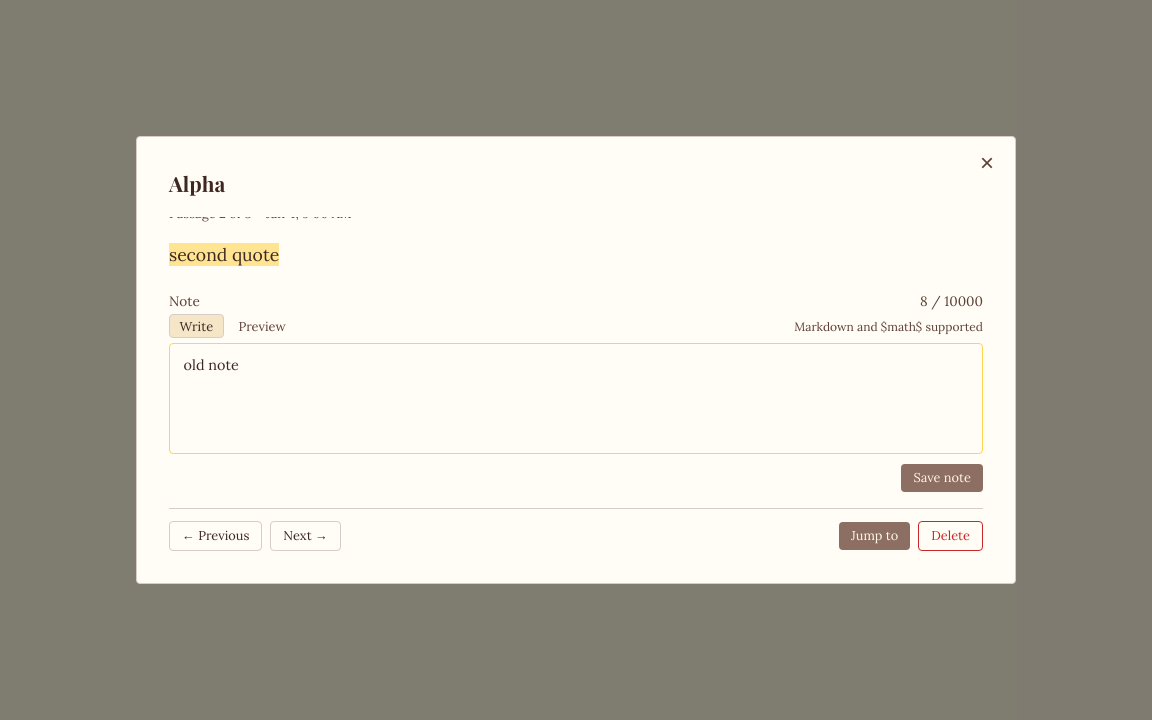
Scenario: PassageFocusDialog › keeps Save note disabled until the note changes, and saves with Ctrl+Enter
Check: the button "Save note" is disabled, box [901, 464, 983, 492]
Replace the text in the text box labelled "Note" with "  new note  ": (576, 398) [169, 343, 983, 454]
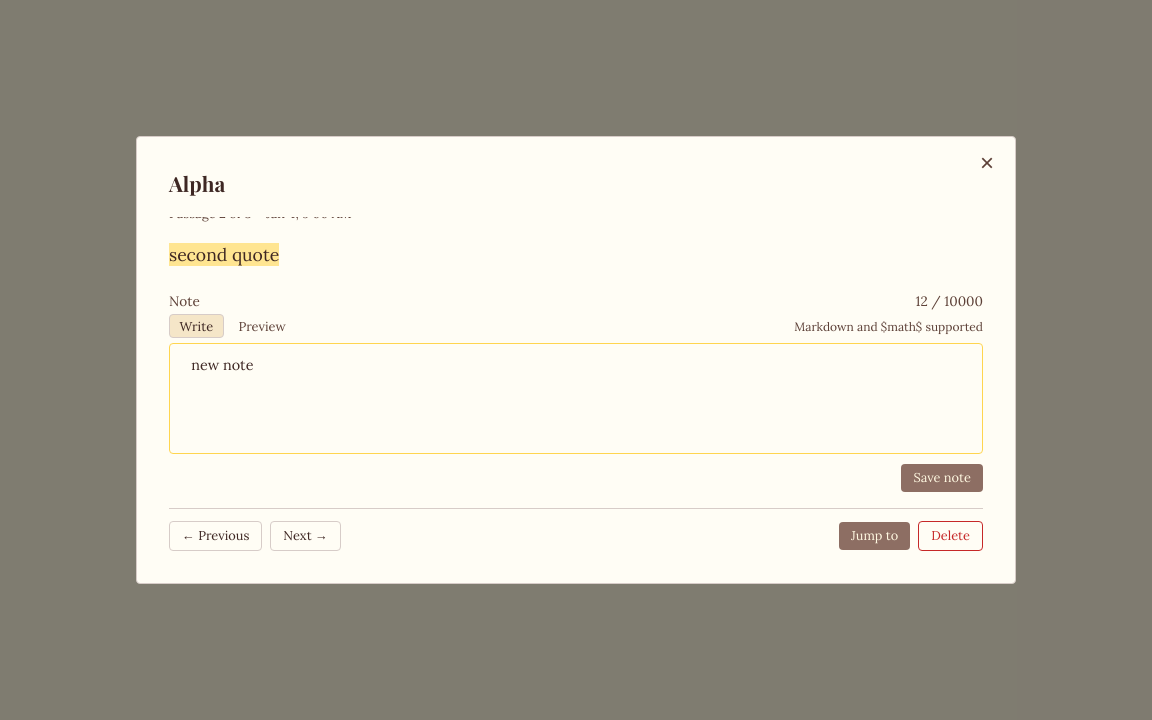
Check: the button "Save note" is enabled, box [901, 464, 983, 492]
Press Enter in the text box labelled "Note", box [169, 343, 983, 454]
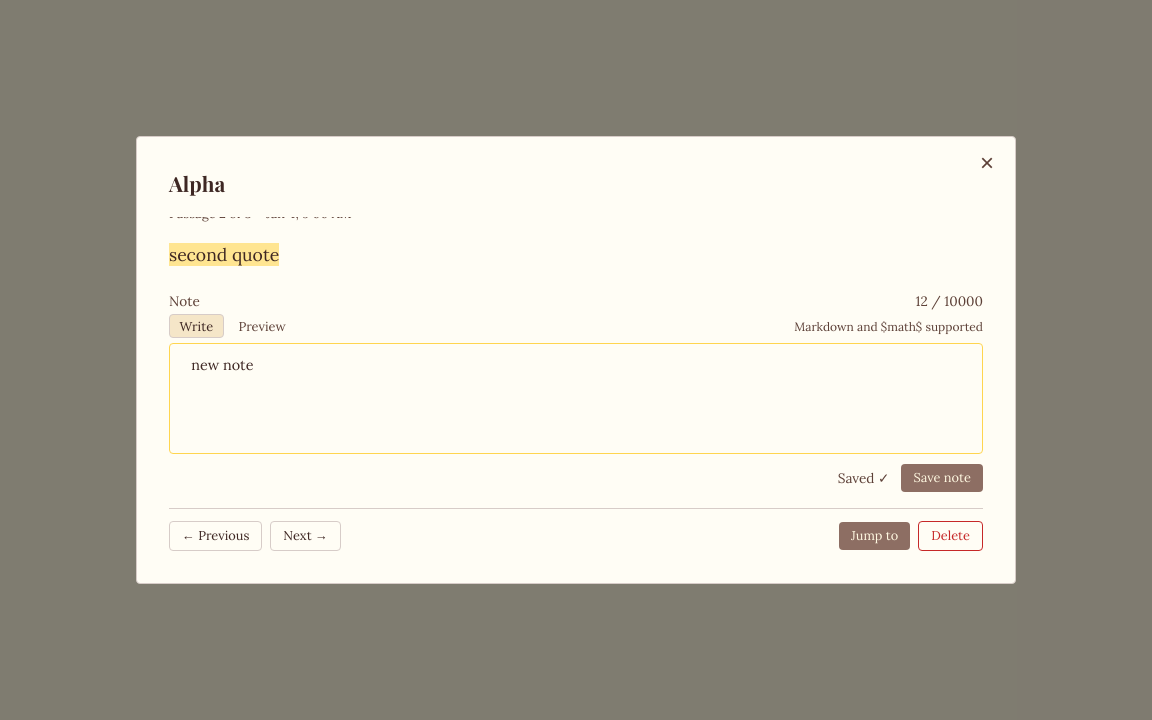
Check: the button "Save note" is disabled, box [901, 464, 983, 492]
Check: the text "Saved ✓" is shown, box [838, 469, 890, 487]
